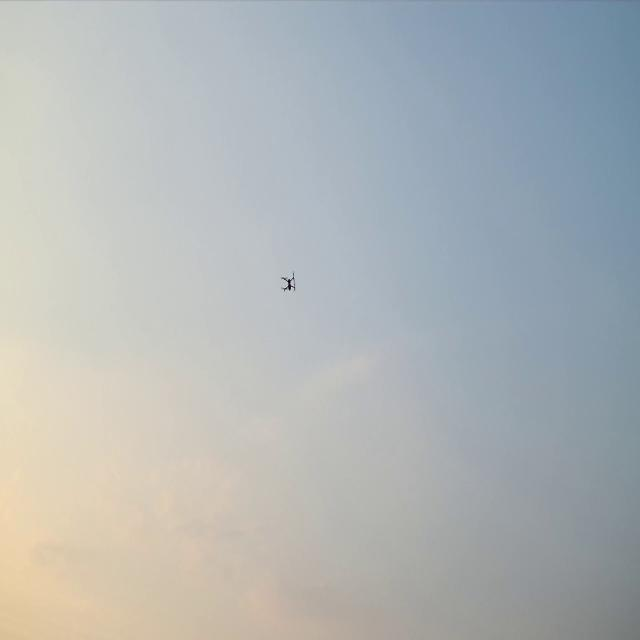UAV: (282, 274, 295, 290)
